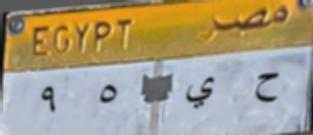5: (95, 82, 122, 109)
7aa: (255, 66, 282, 109)
9: (37, 80, 60, 119)
yaa: (179, 73, 218, 113)
